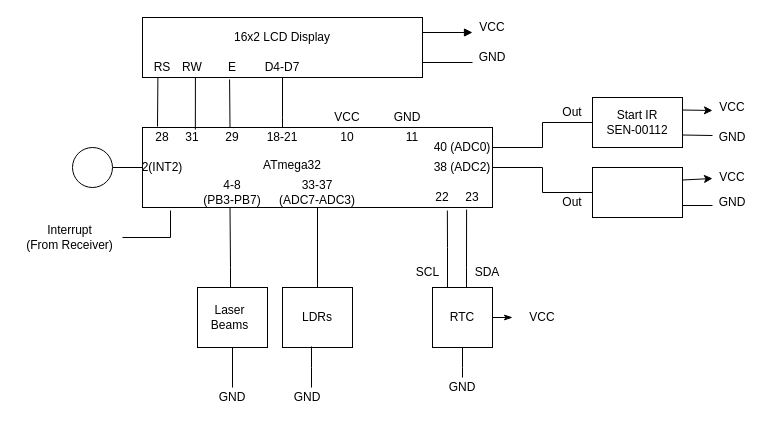
This 769x425 diagram has some shape labels left out. Here are the shapes that lost their labels. From the top down, the box of each, then its label:
(72, 146, 112, 188): Buzzer
(592, 166, 682, 218): Finish IR SEN-00112
